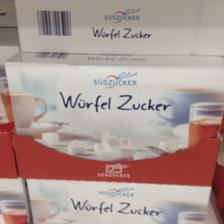Zucker: (3, 51, 222, 161)
